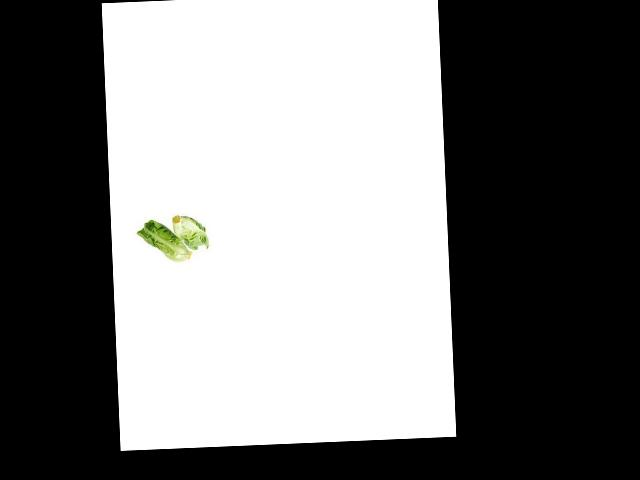lettuce: (123, 186, 215, 300)
